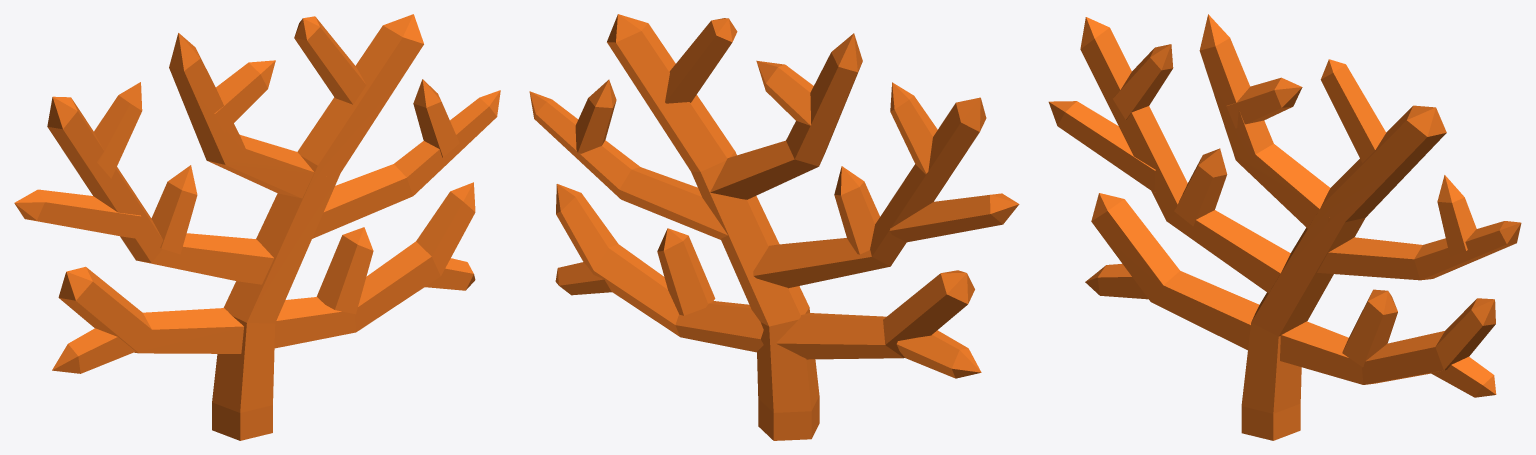
File: coral-small_orange.glb
3 renders of one model, left to right at view 1: azimuth 30°, elevation 25°; view 2: azimuth 150°, elevation 25°; view 3: azimuth 330°, elevation 25°, orthographic. The views are drawn at different scales.
Parts seen in each view (by area): view 1: coral-small_orange; view 2: coral-small_orange; view 3: coral-small_orange.
Boxes of the visible parts, x1,y1,x2,y2 form: coral-small_orange: [14, 14, 500, 440]; coral-small_orange: [529, 14, 1019, 440]; coral-small_orange: [1048, 14, 1521, 440].
Size of the model in its own units: 1.07 by 0.8644 by 0.1114.
1 material, 1 textured.
